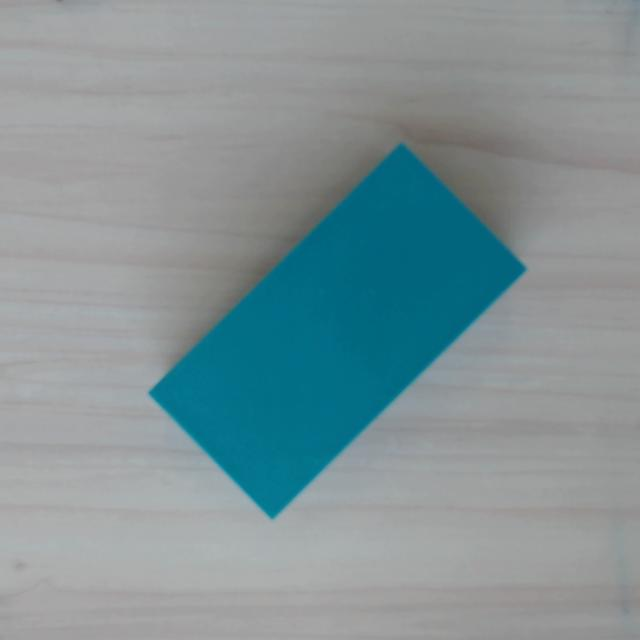Balok-Hijau-1005025: (147, 142, 528, 521)
